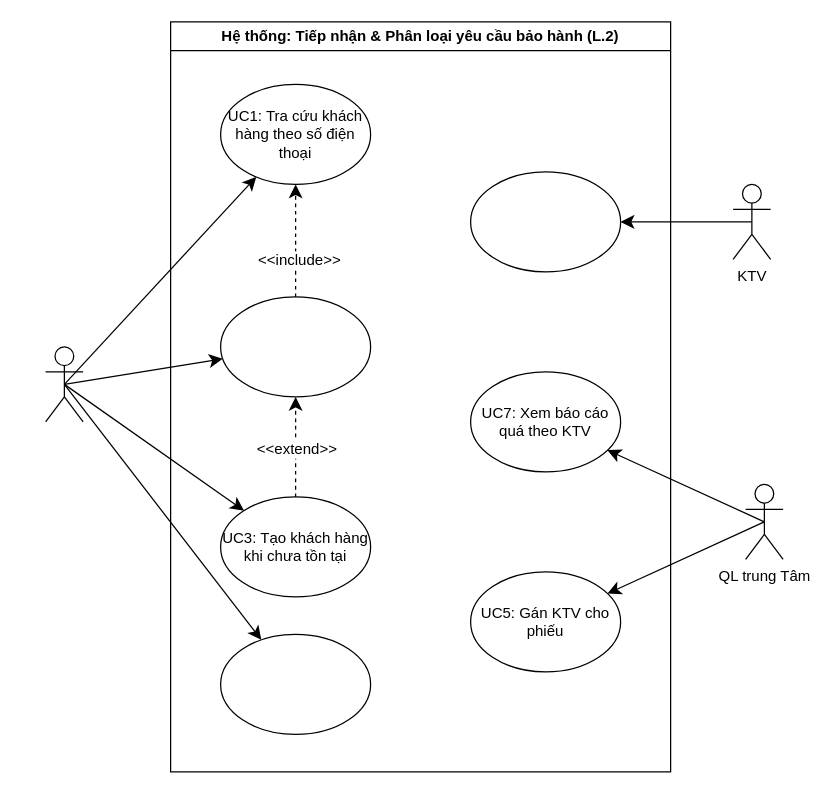
Image size: 831x794. Some labels were removed from this diagram. Each missing label, with the centre of its shape:
NV tiếp nhận: pixel 63 384
UC2: Tạo phiếu bảo hành mới: pixel 295 346
UC4: Phân loại nhóm sự cố và mức ưu tiên: pixel 295 683
UC6: Theo dõi trạng thái và hạn cam kết: pixel 545 221
